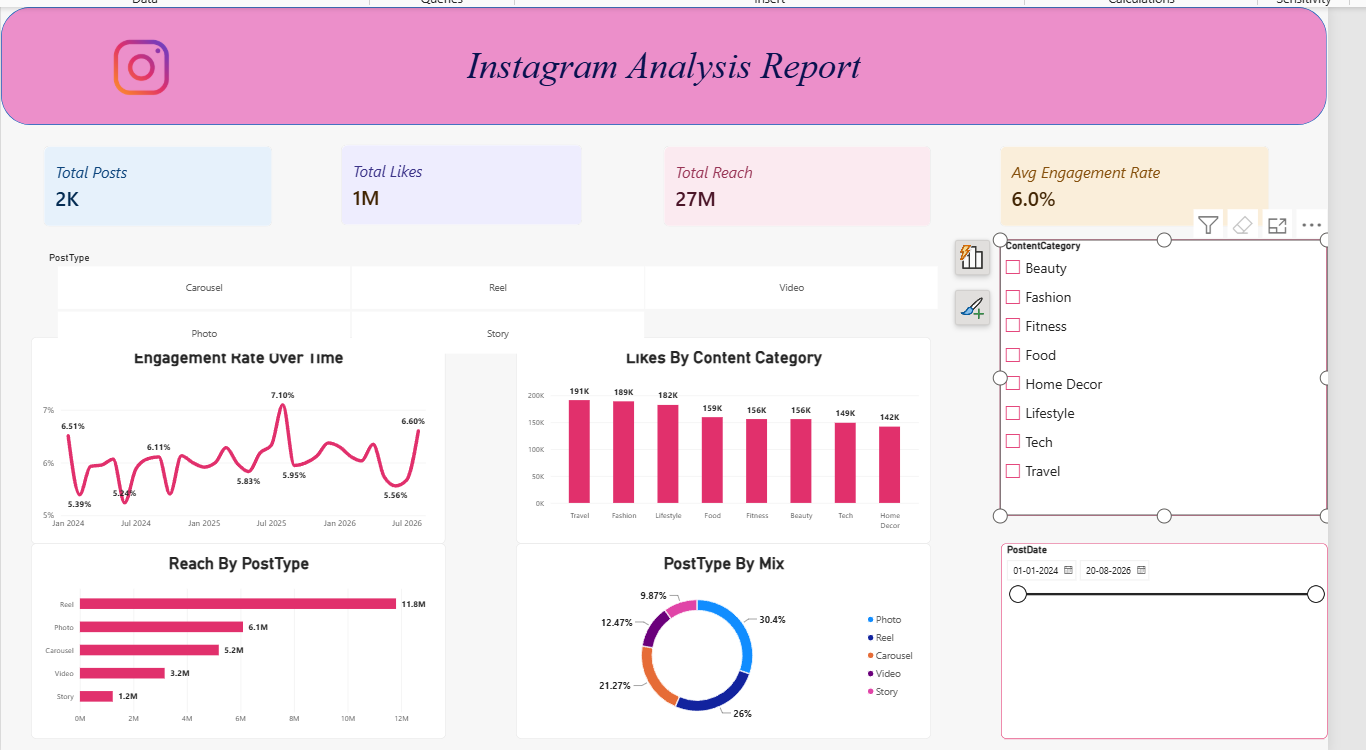

Layout of this report page (visuals, bound fields, positions):
{"tool":"powerbi","page":{"name":"Page 1","canvas":[1920,1080],"ordinal":0},"visuals":[{"type":"shape","box":[0,0,1919.5,170.9],"z":0,"group":"g1"},{"type":"cardVisual","title":"Total Post","fields":{"Data":["Instagram Posts.Total Posts"]},"box":[61.4,200.2,331,117.5],"z":0},{"type":"image","box":[133.5,32,138.8,109.5],"z":1000,"group":"g1"},{"type":"cardVisual","title":"Total Likes","fields":{"Data":["Instagram Posts.Total Likes"]},"box":[492.2,199.1,349.7,117.5],"z":1000},{"type":"cardVisual","title":"Total Reach","fields":{"Data":["Instagram Posts.Total Reach"]},"box":[959.1,200.9,387.1,117.5],"z":2000},{"type":"cardVisual","title":"Avg Engagement ","fields":{"Data":["Instagram Posts.Avg Engagement Rate"]},"box":[1445.9,200.9,390.9,117.6],"z":3000},{"type":"group","id":"g1","title":"Group 1","box":[0,0,1919.5,170.9],"z":4000},{"type":"lineChart","title":" Engagement Rate Over Time ","fields":{"Category":["Instagram Posts.PostDate.Variation.Date Hierarchy.Year","Instagram Posts.PostDate.Variation.Date Hierarchy.Month"],"Y":["Instagram Posts.Avg Engagement Rate"]},"box":[42.7,477.9,600,300],"z":5000},{"type":"clusteredColumnChart","title":"Likes By Content Category","fields":{"Category":["Instagram Posts.ContentCategory"],"Y":["Instagram Posts.Total Likes"]},"box":[744.8,477.9,600.7,299],"z":6000},{"type":"barChart","title":" Reach By PostType","fields":{"Category":["Instagram Posts.PostType"],"Y":["Instagram Posts.Total Reach"]},"box":[42.7,776.9,600.7,283],"z":7000},{"type":"donutChart","title":" PostType By Mix","fields":{"Category":["Instagram Posts.PostType"],"Y":["Instagram Posts.Total Posts"]},"box":[744.8,776.9,600.7,283],"z":8000},{"type":"slicer","fields":{"Values":["Instagram Posts.ContentCategory"]},"box":[1446.7,336.7,473.3,400],"z":9000},{"type":"slicer","fields":{"Values":["Instagram Posts.PostDate"]},"box":[1447,776.9,472.5,283],"z":10000},{"type":"slicer","fields":{"Values":["Instagram Posts.PostType"]},"box":[60,337,1313.6,149.3],"z":10001}]}

Visuals, with their boxes on the page's 1920x1080 design canvas (x1, y1, x2, y2). These are canvas units, not pixel positions in the 1366x750 screenshot, which may show the page scaled, cropped or inside an application window:
shape: 0/0/1920/171
"Total Post" cardVisual: 61/200/392/318
image: 134/32/272/142
"Total Likes" cardVisual: 492/199/842/317
"Total Reach" cardVisual: 959/201/1346/318
"Avg Engagement " cardVisual: 1446/201/1837/318
"Group 1" group: 0/0/1920/171
" Engagement Rate Over Time " lineChart: 43/478/643/778
"Likes By Content Category" clusteredColumnChart: 745/478/1346/777
" Reach By PostType" barChart: 43/777/643/1060
" PostType By Mix" donutChart: 745/777/1346/1060
slicer - Instagram Posts.ContentCategory: 1447/337/1920/737
slicer - Instagram Posts.PostDate: 1447/777/1920/1060
slicer - Instagram Posts.PostType: 60/337/1374/486
